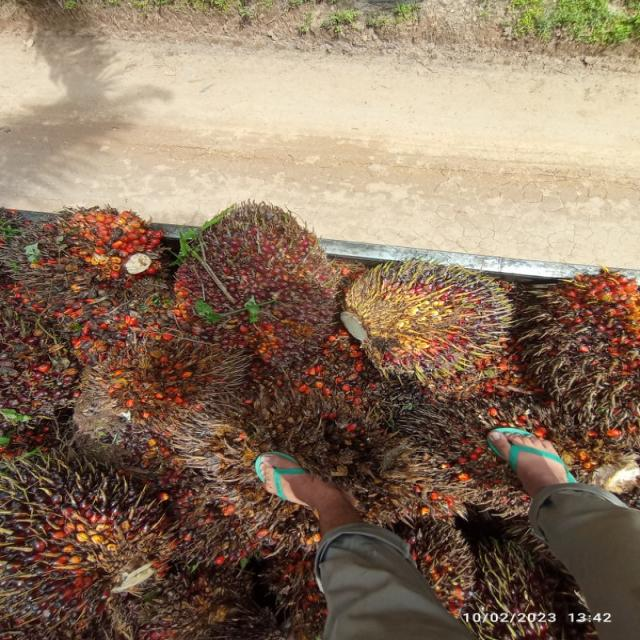fraksi 00: (342, 225, 519, 407), (0, 438, 186, 604)
fraksi 1: (159, 200, 358, 353)
fraksi 4: (4, 198, 184, 309), (527, 245, 640, 414), (72, 337, 236, 453)
